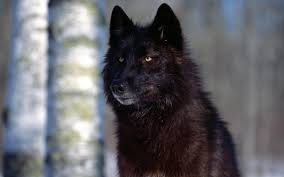Lobo: (98, 2, 183, 138)
